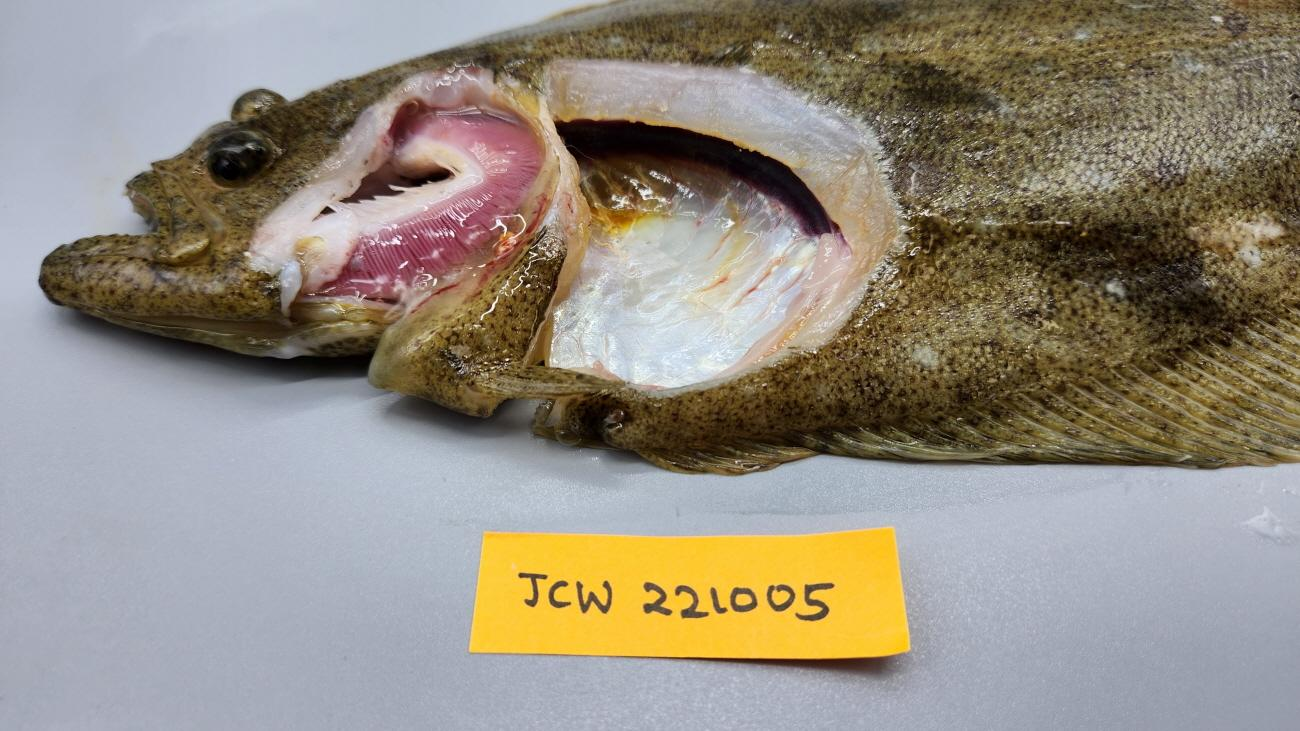POASN: (549, 152, 819, 387)
POKIN: (552, 118, 831, 238)
